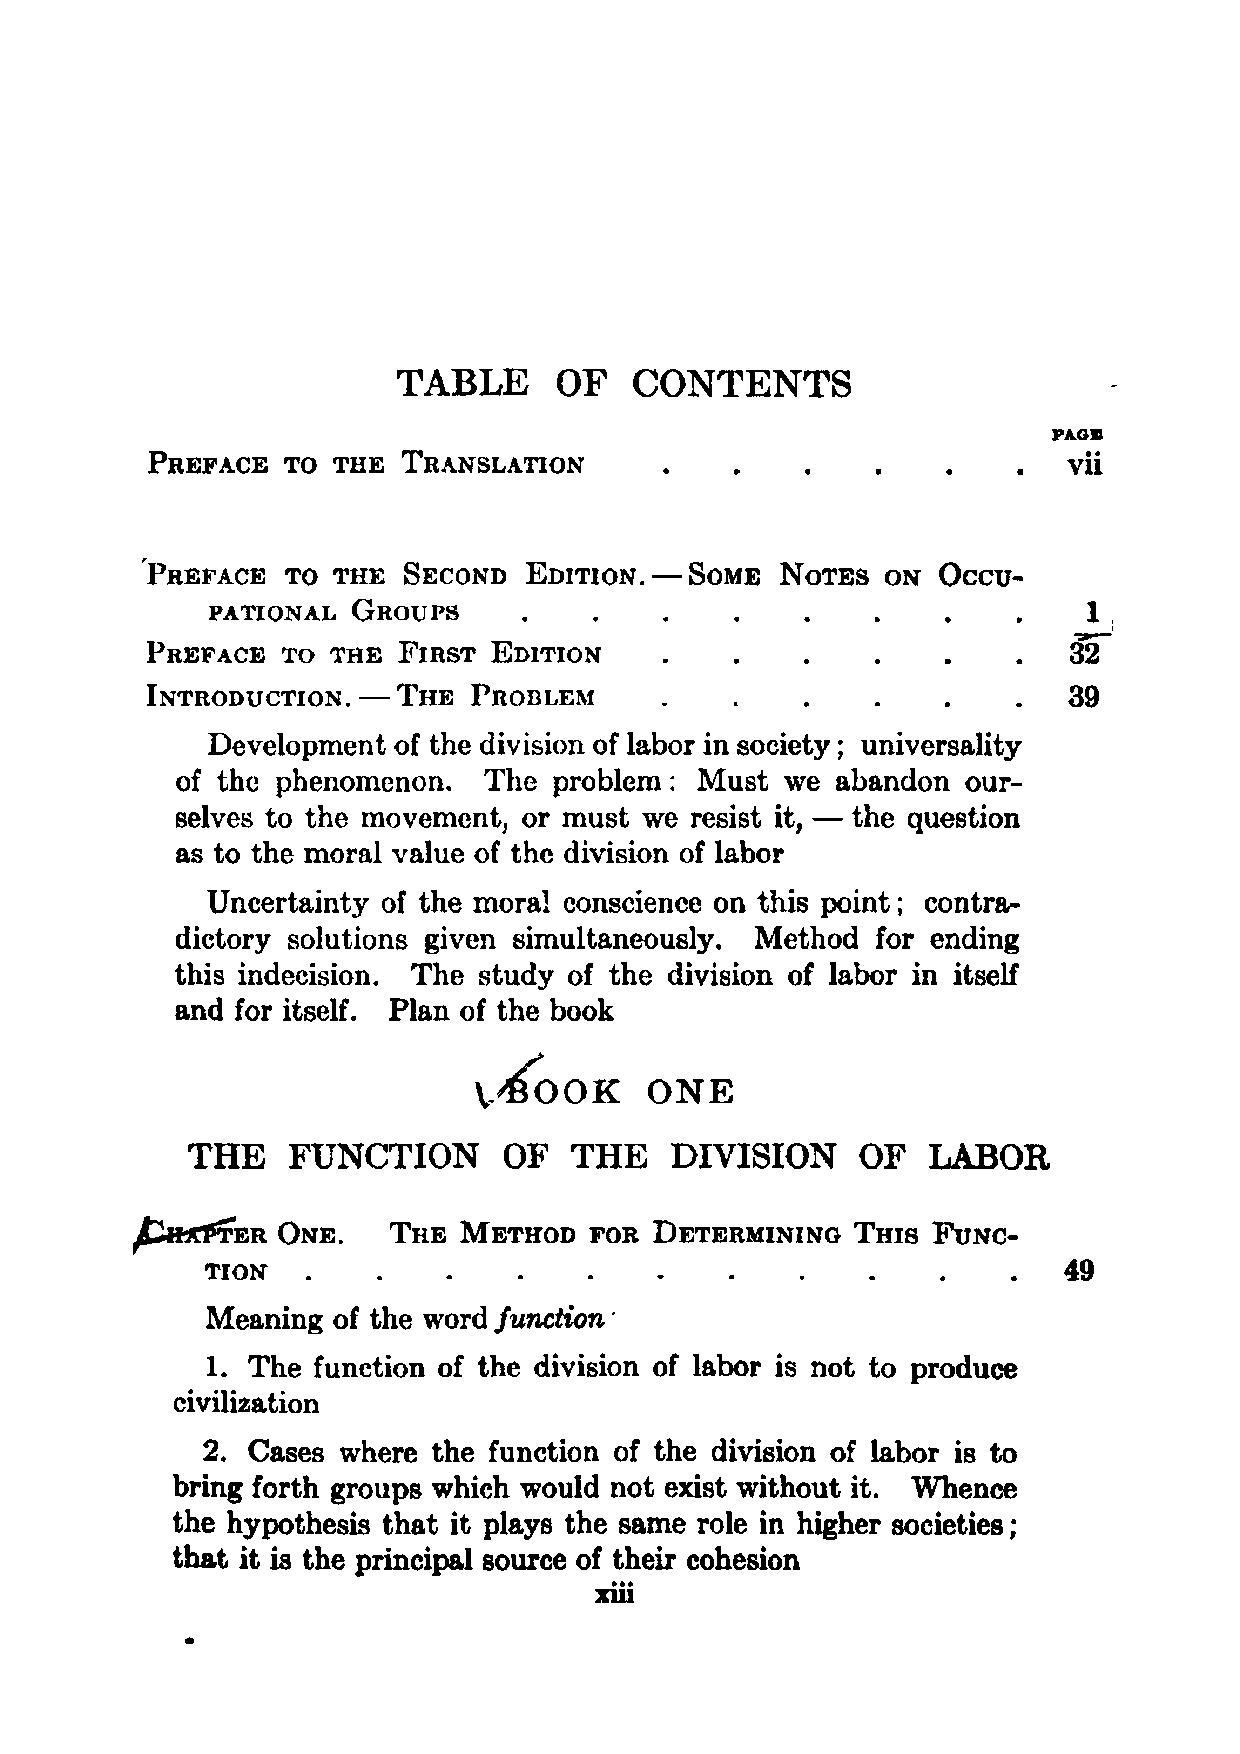TOC_chapter: (136, 1217, 1027, 1578), (141, 678, 1029, 1031), (181, 1068, 1056, 1180), (140, 553, 1024, 621), (145, 442, 582, 479), (142, 636, 603, 668)
TOC_pagenumber: (1068, 454, 1111, 484), (1062, 1253, 1099, 1284), (1063, 684, 1100, 709), (1067, 637, 1100, 663), (1082, 595, 1100, 625)
chapter: (393, 350, 860, 407)
content_pagenumber: (590, 1578, 637, 1609)
